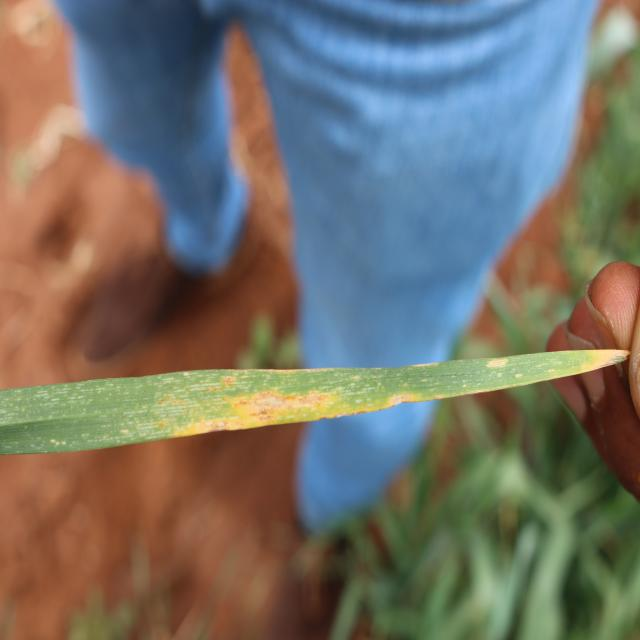Stripe Rust: (174, 387, 350, 437), (580, 346, 628, 371), (386, 389, 447, 402)
